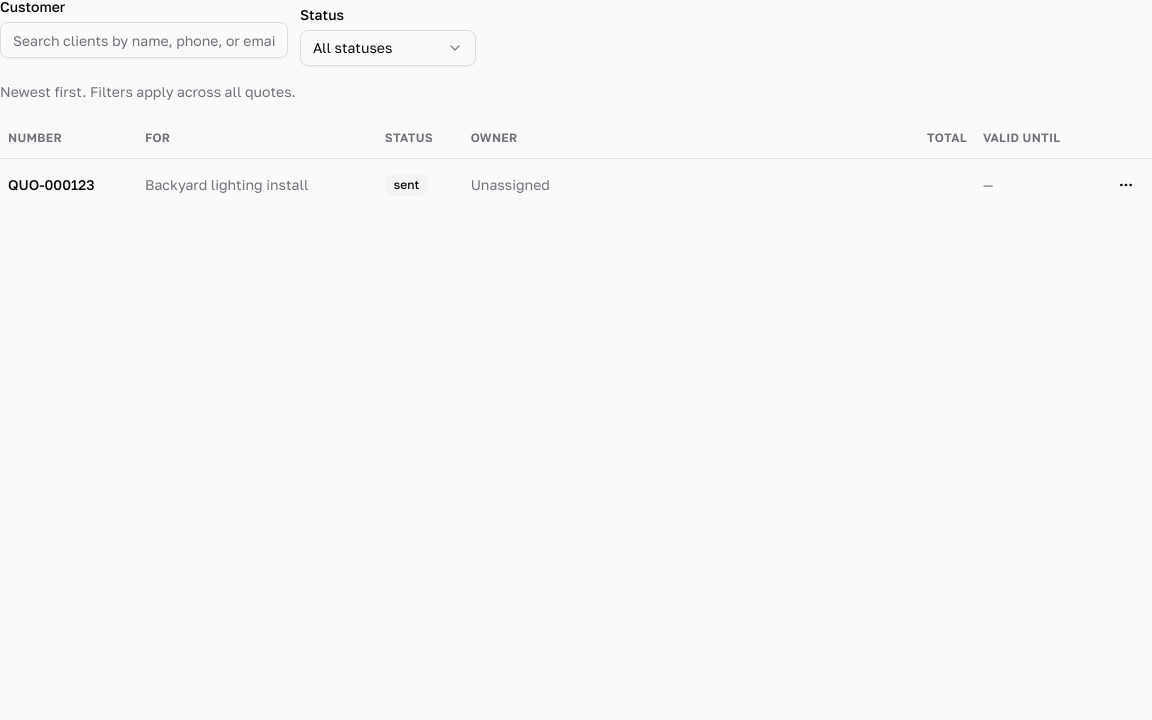
QuotesList editing and deleting › warns that deleting a sent quote kills the customer's link
The image size is (1152, 720).
Check: the button "QUO-000123" is shown, box [8, 174, 94, 194]
Click the button named "Actions": click(1126, 184) [1108, 166, 1144, 202]
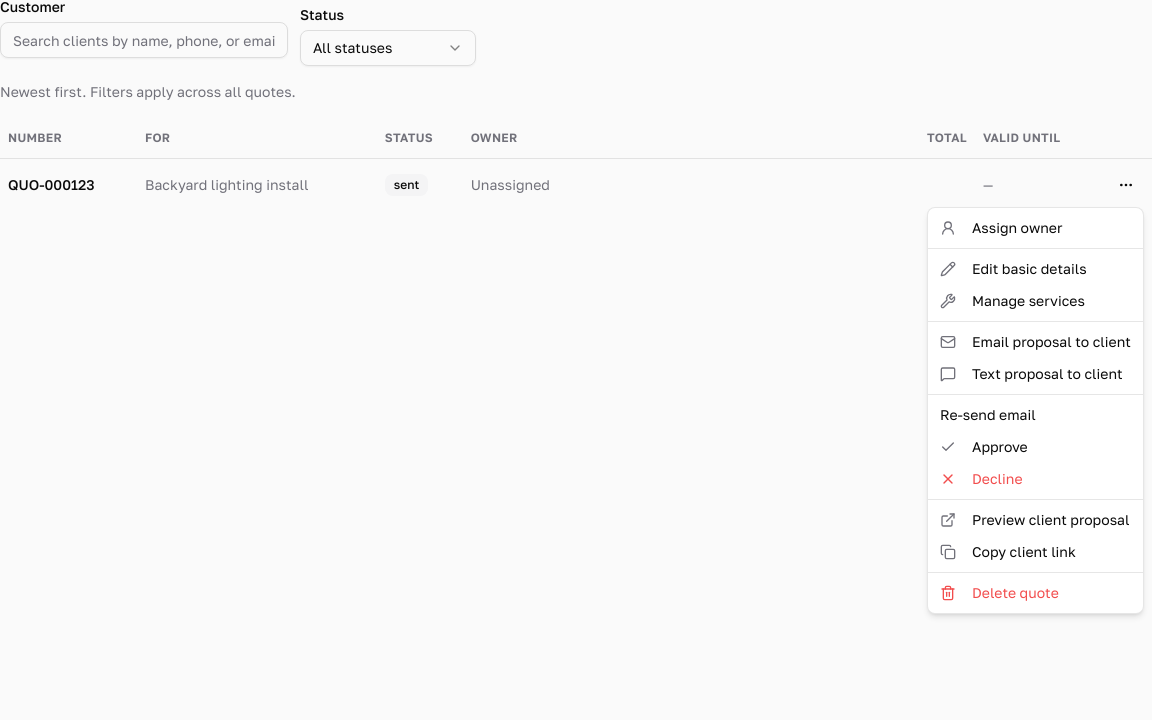
Click the menu item "Delete quote": click(999, 592) [940, 584, 1059, 601]
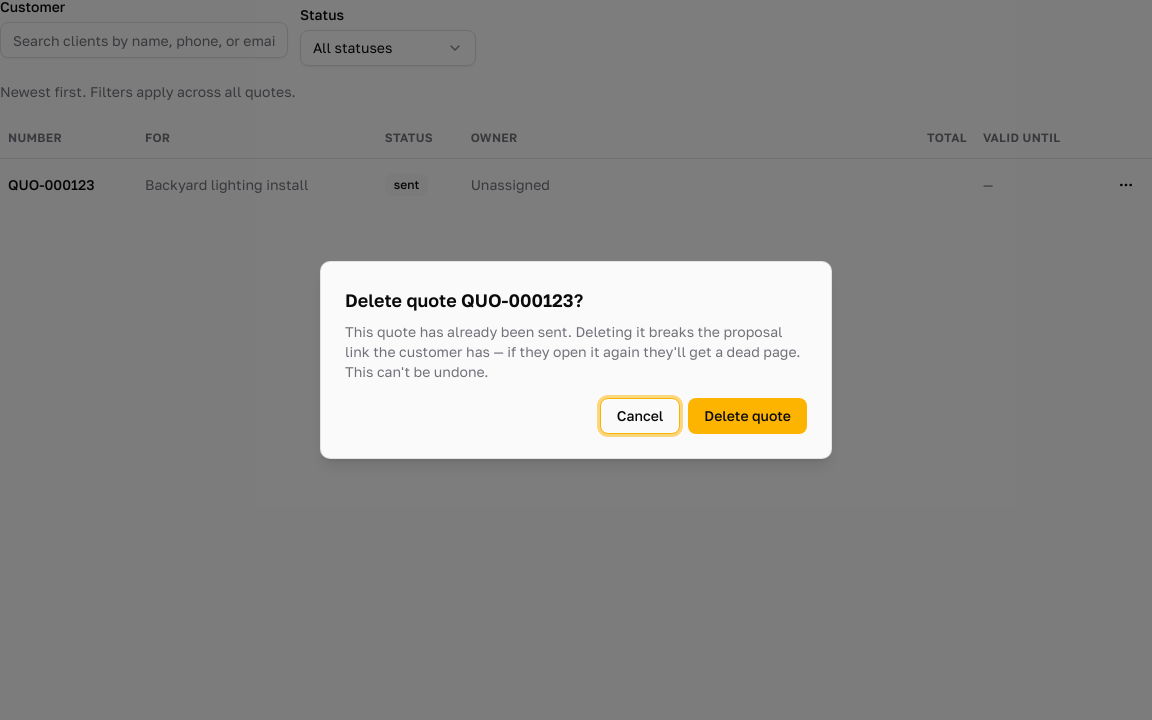
Check: the text "breaks the proposal link the customer has" is shown, box [345, 323, 800, 380]
